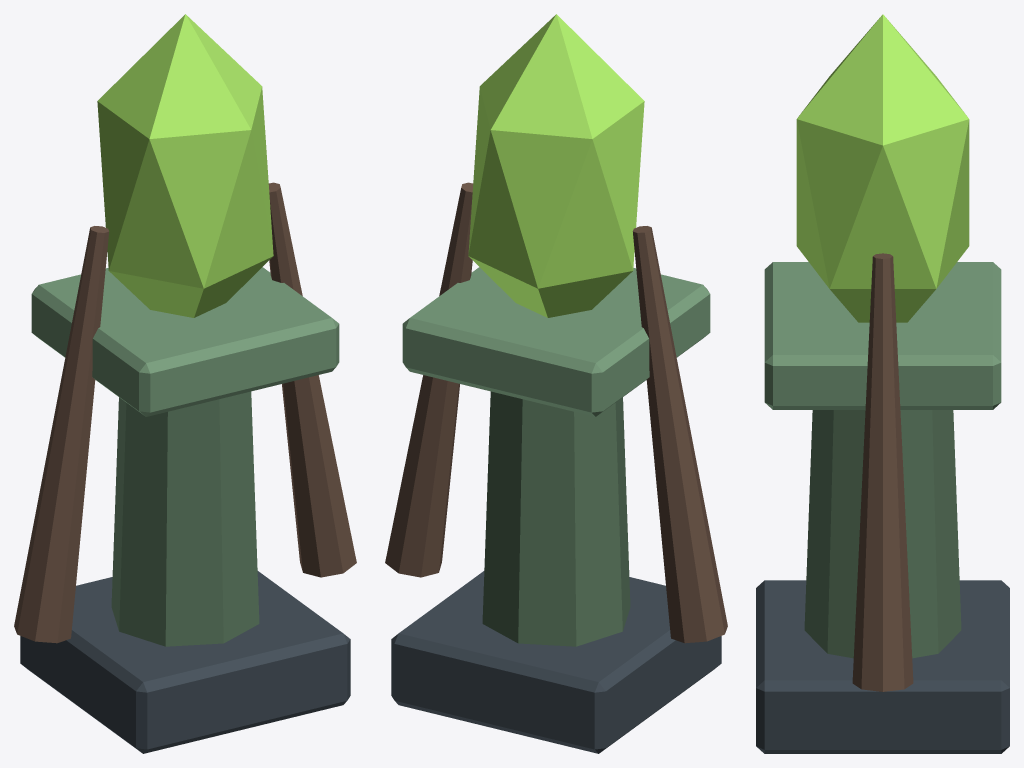
File: SH10_L02_ForestShrine.fbx
The picture shows the model from 3 angles, left to right: view 1: azimuth 30°, elevation 25°; view 2: azimuth 150°, elevation 25°; view 3: azimuth 270°, elevation 25°; orthographic projection. The views are drawn at different scales.
Parts seen in each view (by area): view 1: SH10_L02_ForestShrine; view 2: SH10_L02_ForestShrine; view 3: SH10_L02_ForestShrine.
Part boxes in pixels (left/top/right/bottom): SH10_L02_ForestShrine: left=14, top=14, right=356, bottom=753; SH10_L02_ForestShrine: left=385, top=14, right=727, bottom=753; SH10_L02_ForestShrine: left=756, top=14, right=1009, bottom=753.
Size of the model in its own units: 118 by 225 by 75.
